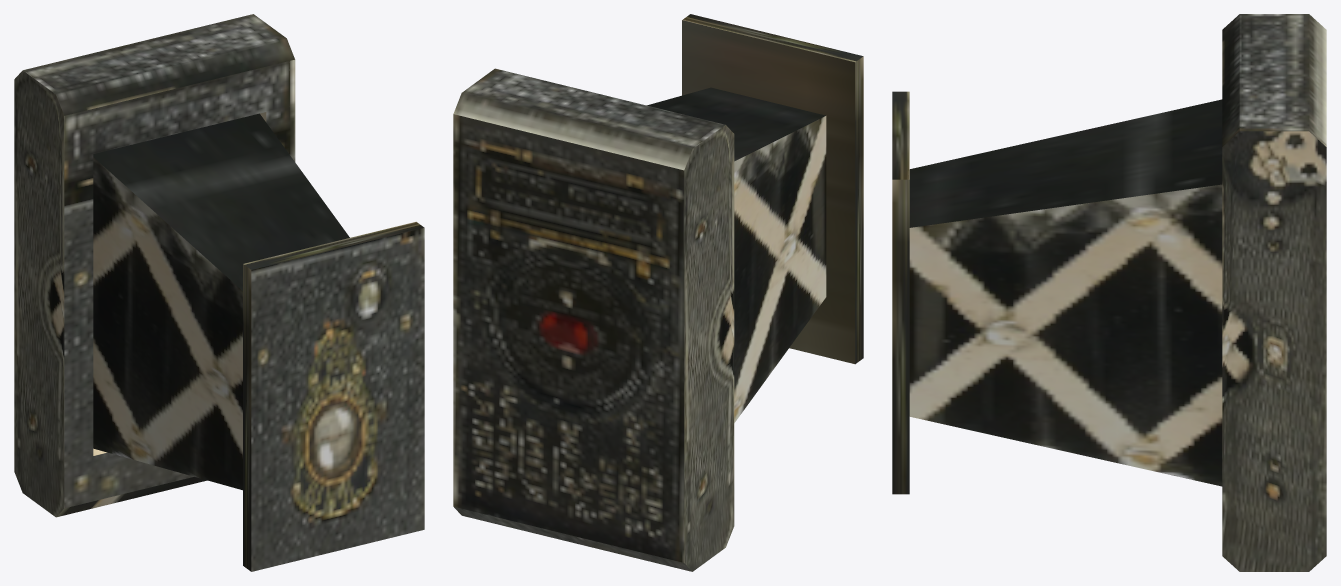
The model's file is camera.fbx.
The picture shows the model from 3 angles, left to right: view 1: azimuth 30°, elevation 25°; view 2: azimuth 150°, elevation 25°; view 3: azimuth 270°, elevation 25°; orthographic projection. The views are drawn at different scales.
Visible parts, largest first — view 1: Camera.002; view 2: Camera.002; view 3: Camera.002.
Part boxes in pixels (x1,y1,x2,y2): Camera.002: (14,14,424,571); Camera.002: (453,14,863,571); Camera.002: (892,14,1326,571).
Size of the model in its own units: 12.39 by 21.68 by 19.36.
